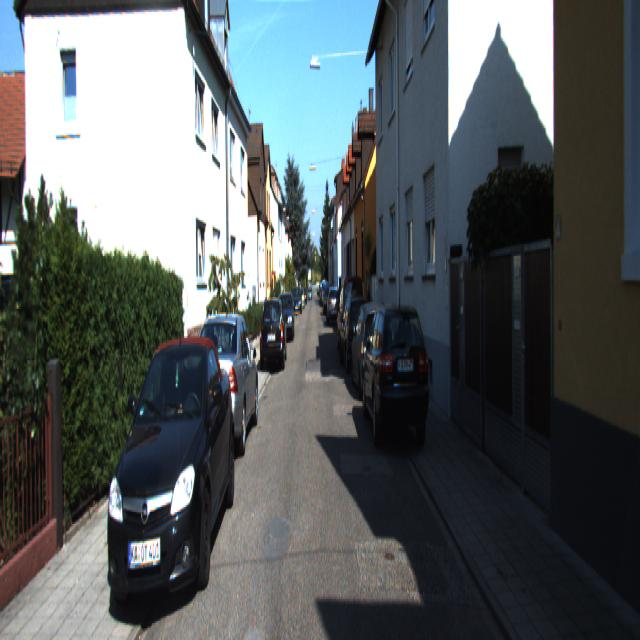Car: (104, 335, 238, 636), (361, 302, 431, 464), (190, 310, 260, 470), (350, 300, 396, 406), (339, 301, 374, 388), (336, 279, 364, 368), (260, 302, 286, 379), (275, 290, 295, 343), (327, 285, 341, 326)
